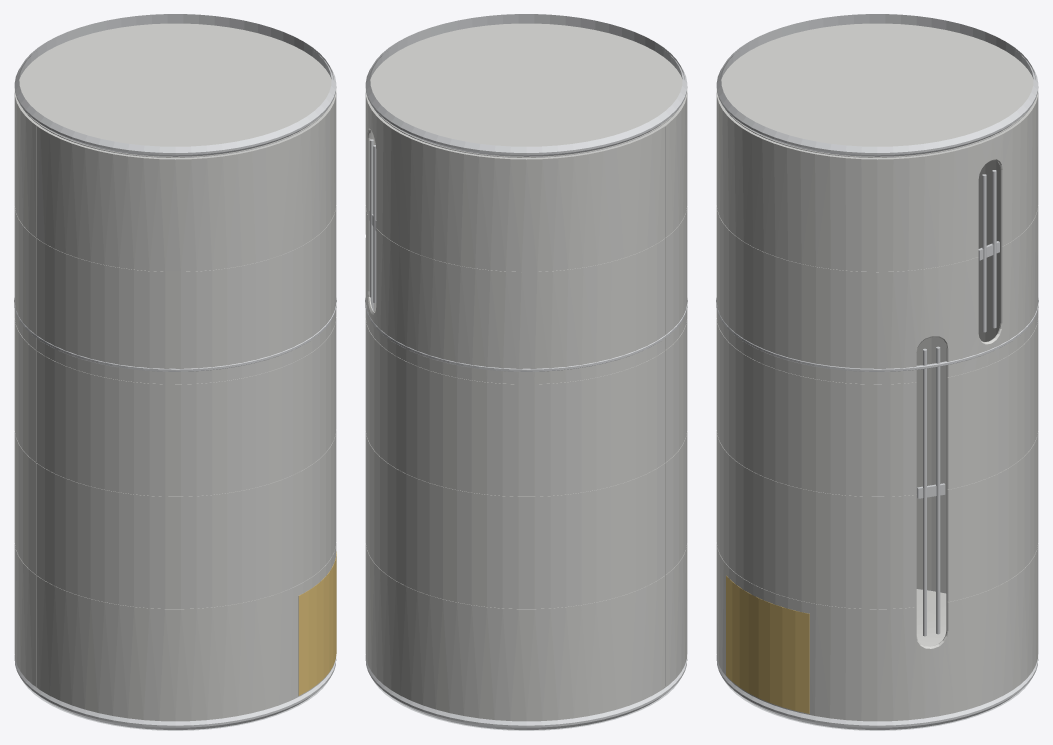
File: ax_tank_03_heavy_methalox_xxl_medium.glb
The picture shows the model from 3 angles, left to right: view 1: azimuth 30°, elevation 25°; view 2: azimuth 150°, elevation 25°; view 3: azimuth 270°, elevation 25°; orthographic projection.
Visible parts, largest first — view 1: tank_barrel, dome_caps, end_rings, mli_patch, common_bulkhead_ring; view 2: tank_barrel, dome_caps, end_rings, raceway_lines, common_bulkhead_ring; view 3: tank_barrel, dome_caps, end_rings, mli_patch, raceway_lines, common_bulkhead_ring.
Boxes of the visible parts, bbox=[...] form: tank_barrel: bbox=[14, 89, 336, 721]; dome_caps: bbox=[19, 23, 331, 721]; end_rings: bbox=[14, 14, 336, 730]; mli_patch: bbox=[298, 551, 336, 695]; common_bulkhead_ring: bbox=[14, 298, 336, 371]; tank_barrel: bbox=[365, 89, 687, 721]; dome_caps: bbox=[370, 23, 682, 721]; end_rings: bbox=[365, 14, 687, 730]; raceway_lines: bbox=[369, 139, 376, 311]; common_bulkhead_ring: bbox=[365, 298, 687, 371]; tank_barrel: bbox=[716, 89, 1038, 721]; dome_caps: bbox=[721, 23, 1033, 721]; end_rings: bbox=[716, 14, 1038, 730]; mli_patch: bbox=[726, 575, 809, 713]; raceway_lines: bbox=[917, 170, 999, 636]; common_bulkhead_ring: bbox=[716, 298, 1038, 371].
Size of the model in its own units: 7.52 by 15 by 7.52.
